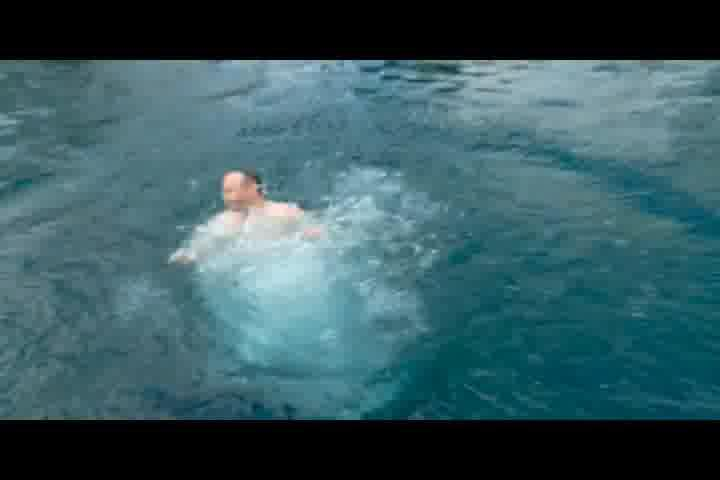human: (165, 152, 330, 271)
